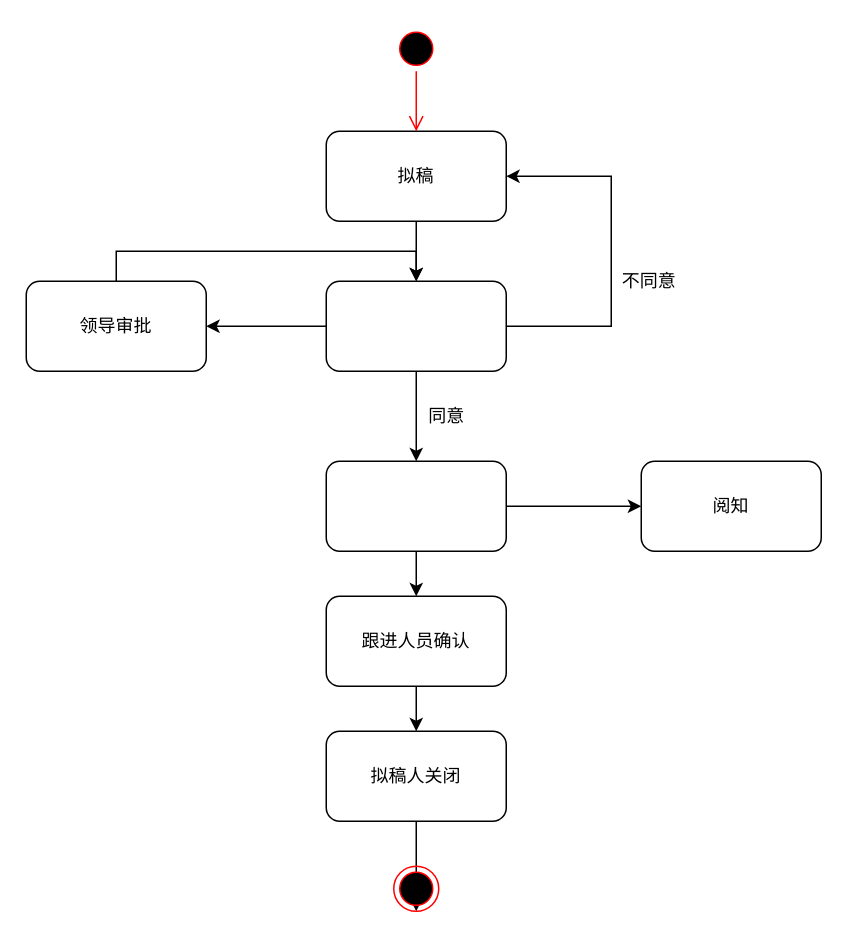
This 848x950 diagram has some shape labels left out. The shapes that lost their labels are listed below. From the top down, each one's centre as x and y in pixels, then its label:
At (x=415, y=325): "群组经理审批".
At (x=415, y=505): "拟稿人分派".
